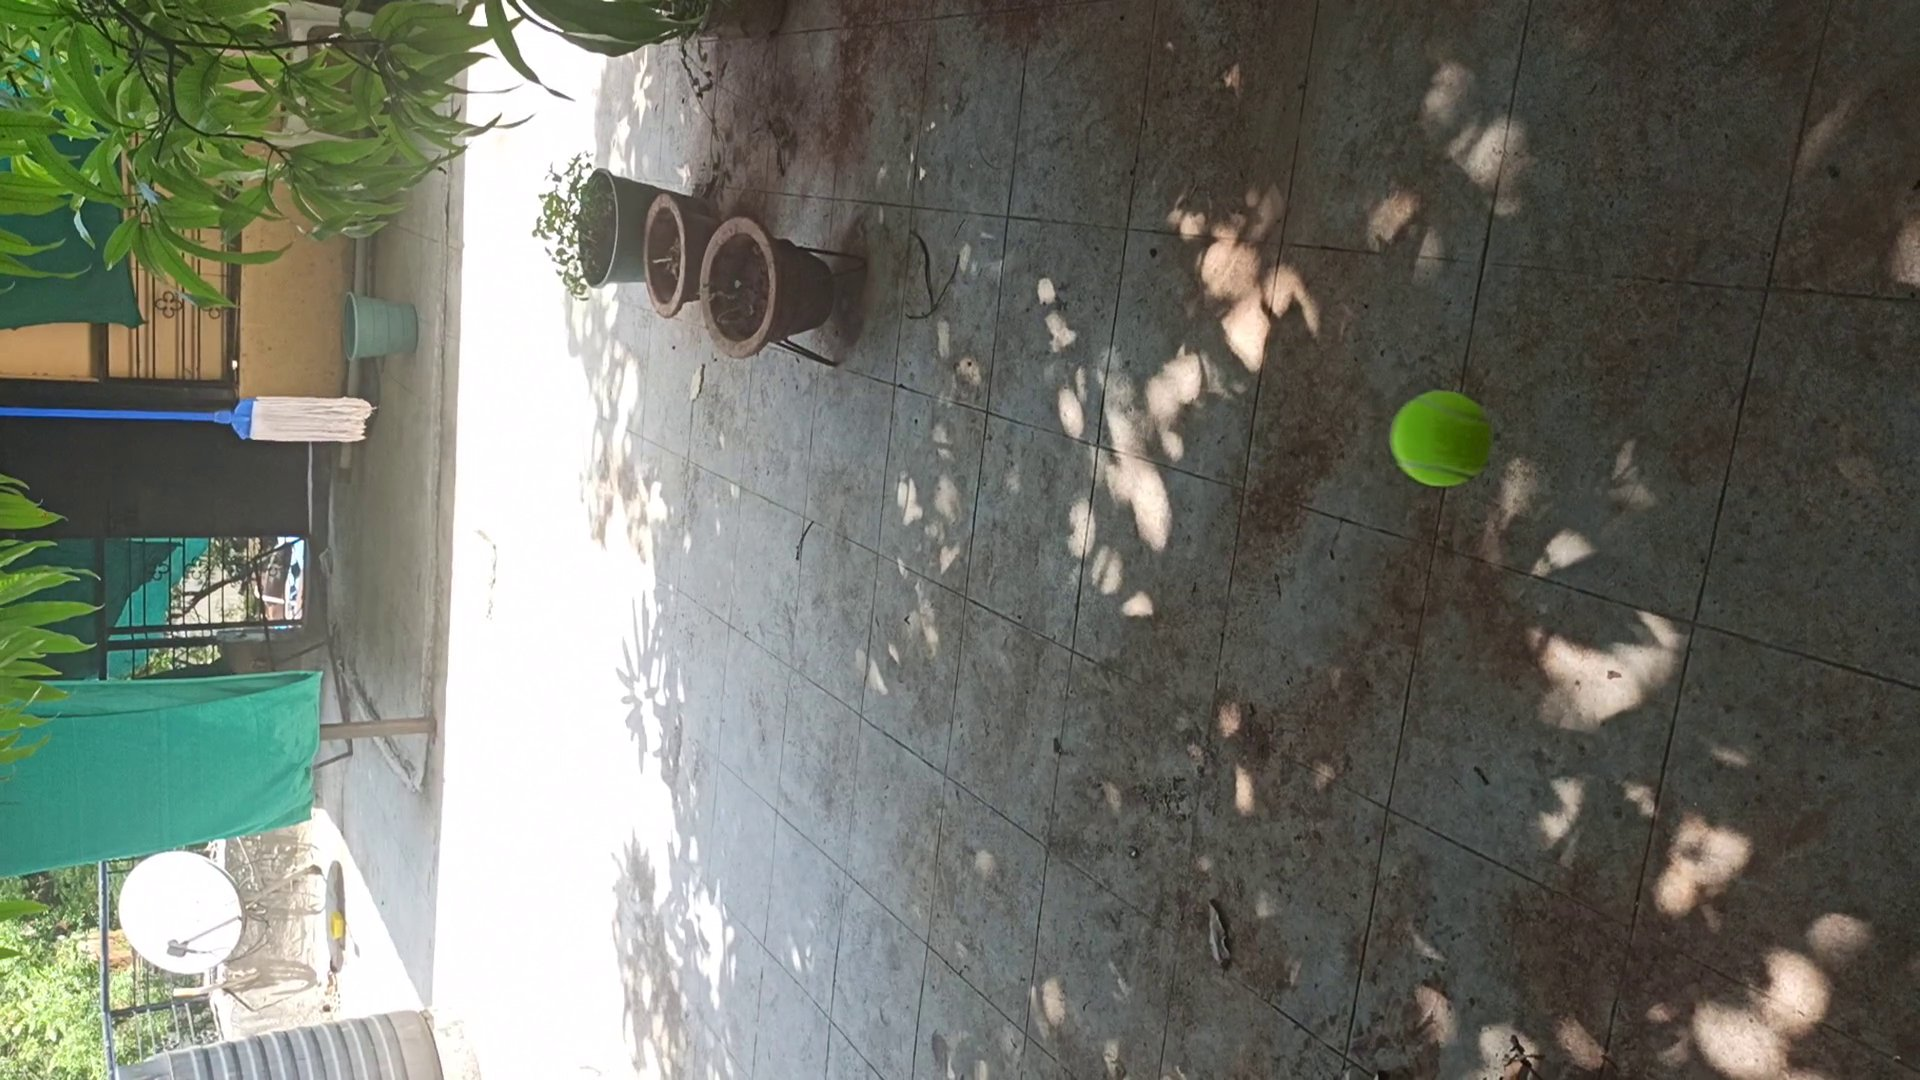Tennis-Ball: (1390, 392, 1491, 485)
